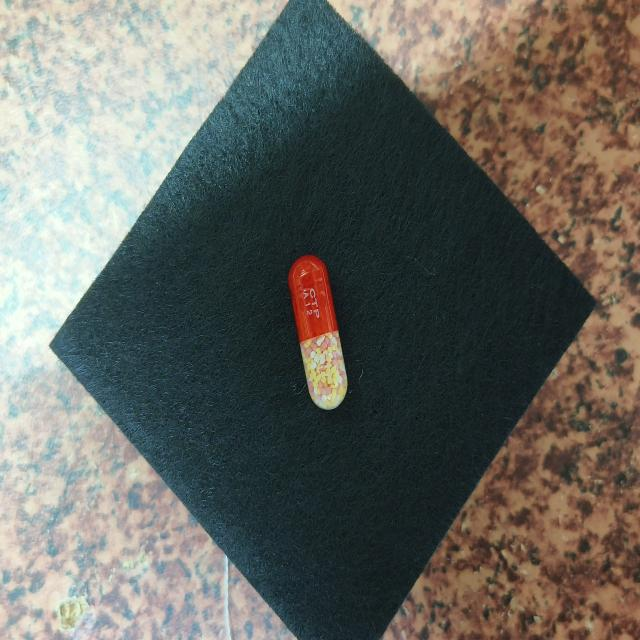Intact Capsule: (288, 255, 348, 410)
